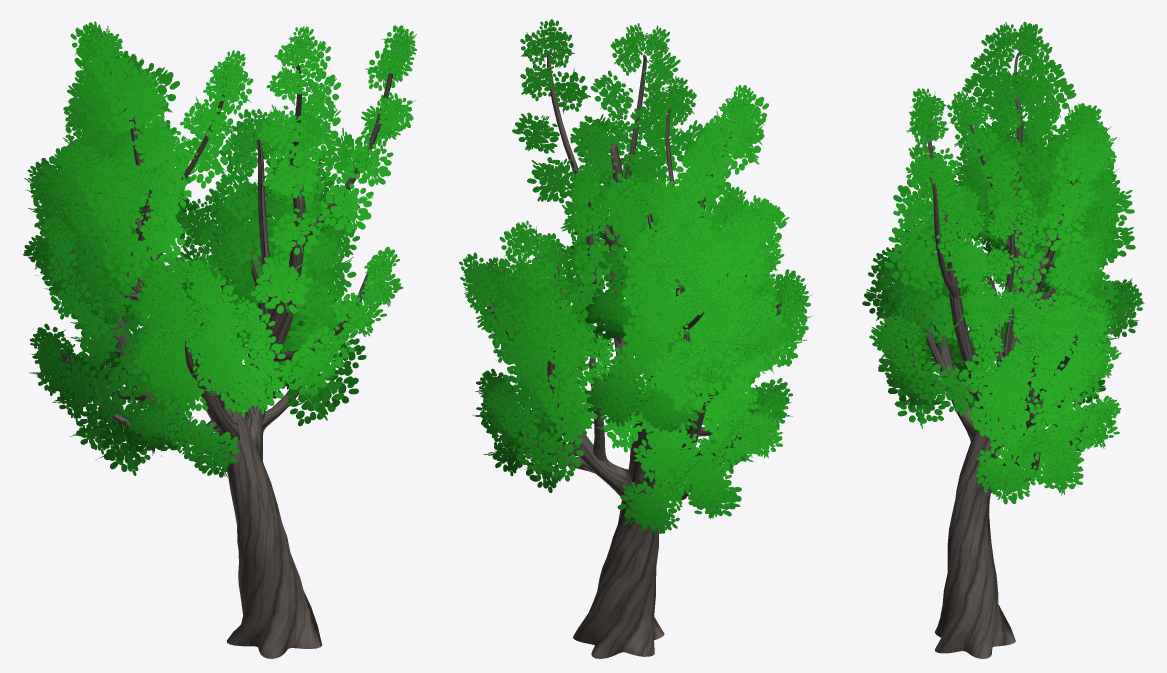
The model's file is TwistedTree_2.gltf.
3 renders of one model, left to right at view 1: azimuth 30°, elevation 25°; view 2: azimuth 150°, elevation 25°; view 3: azimuth 270°, elevation 25°, orthographic. The views are drawn at different scales.
Visible parts, largest first — view 1: TwistedTree_2; view 2: TwistedTree_2; view 3: TwistedTree_2.
Part boxes in pixels (x1,y1,x2,y2): TwistedTree_2: (23,21,416,658); TwistedTree_2: (459,19,814,658); TwistedTree_2: (862,21,1144,658).
Size of the model in its own units: 10.56 by 18.95 by 9.2.
Materials: 2 (2 with a texture image).
